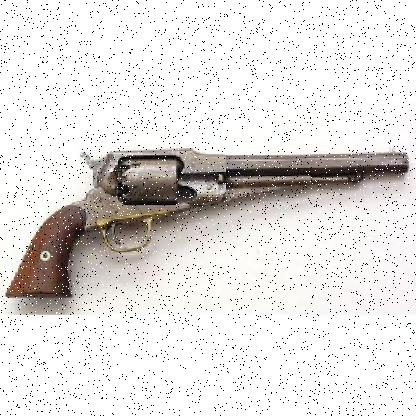pistol: (6, 144, 408, 298)
